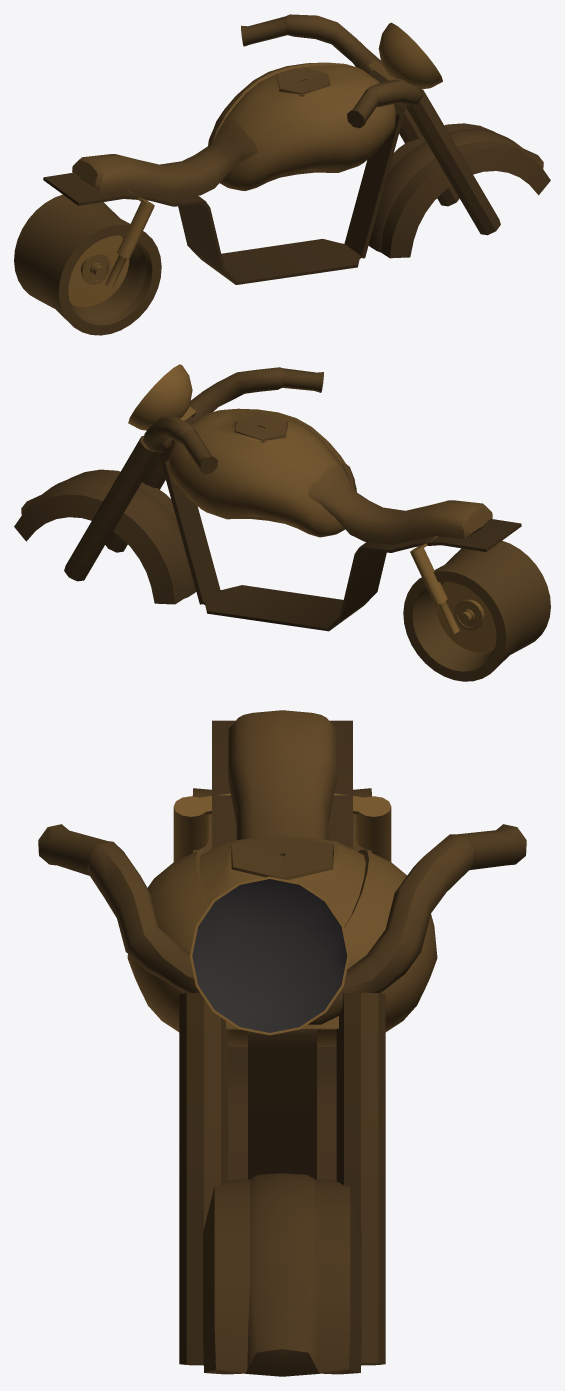
The model's file is Moto0.fbx.
The picture shows the model from 3 angles, top to bottom: view 1: azimuth 30°, elevation 25°; view 2: azimuth 150°, elevation 25°; view 3: azimuth 270°, elevation 25°; orthographic projection. The views are drawn at different scales.
Parts seen in each view (by area): view 1: Moto0; view 2: Moto0; view 3: Moto0.
Boxes of the visible parts, x1,y1,x2,y2 form: Moto0: (14,14,550,335); Moto0: (14,364,550,681); Moto0: (38,710,526,1376).
Bounding box in the file's own units: 226 × 94.55 × 95.38.
